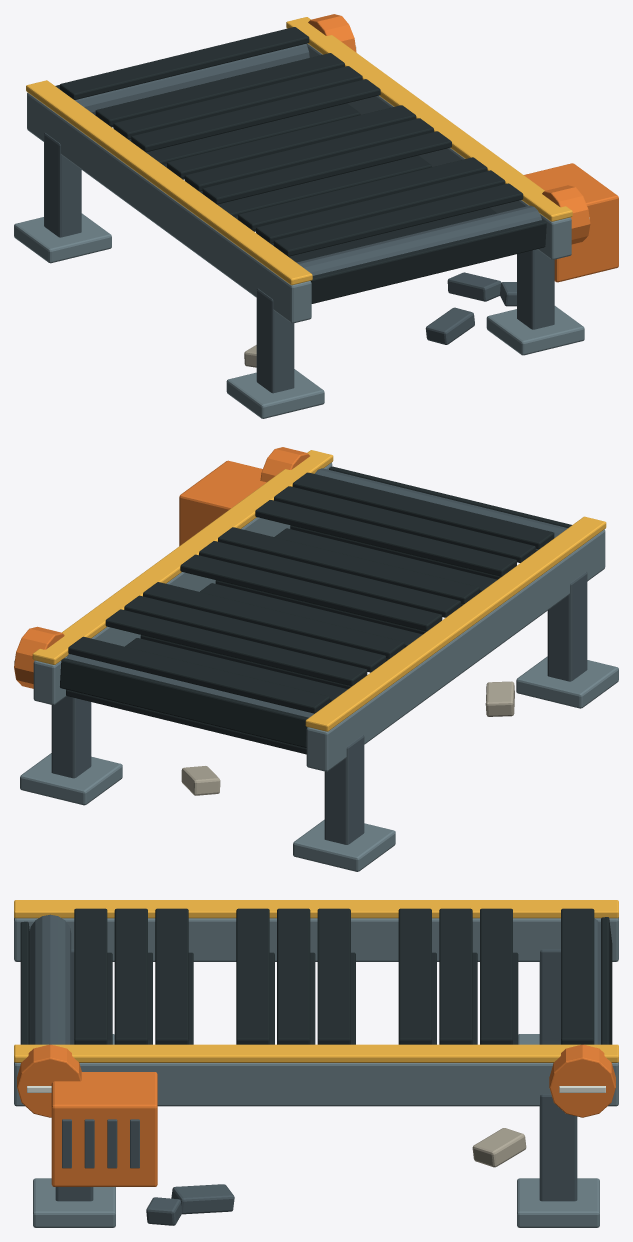
The model's file is conveyor_module_d2.glb.
3 views of the same model, one above another, from view 1: azimuth 30°, elevation 25°; view 2: azimuth 150°, elevation 25°; view 3: azimuth 270°, elevation 25° (orthographic). The views are drawn at different scales.
Parts seen in each view (by area): view 1: Conveyor side rail.052, Caution rail.040, BELT_TREAD.573, Caution rail.041, Motor enclosure.020, BELT_TREAD.552, BELT_TREAD.558, BELT_TREAD.555, BELT_TREAD.561, BELT_TREAD.553, BELT_TREAD.554, BELT_TREAD.556 (+19 smaller); view 2: Conveyor side rail.052, Caution rail.040, BELT_TREAD.562, Caution rail.041, BELT_TREAD.560, BELT_TREAD.557, BELT_TREAD.561, BELT_TREAD.554, BELT_TREAD.552, BELT_TREAD.555, BELT_TREAD.558, BELT_TREAD.559 (+24 smaller); view 3: Conveyor side rail.053, Motor enclosure.020, Caution rail.041, Conveyor side rail.052, Caution rail.040, Drive drum.040, BELT_TREAD.553, BELT_TREAD.554, BELT_TREAD.556, BELT_TREAD.558, BELT_TREAD.559, BELT_TREAD.561 (+30 smaller).
Boxes of the visible parts, <box> form: Conveyor side rail.052: <box>27,92,311,323</box>; Caution rail.040: <box>26,80,312,285</box>; BELT_TREAD.573: <box>310,220,546,303</box>; Caution rail.041: <box>286,17,572,221</box>; Motor enclosure.020: <box>524,163,618,282</box>; BELT_TREAD.552: <box>273,183,523,256</box>; BELT_TREAD.558: <box>131,79,380,152</box>; BELT_TREAD.555: <box>202,131,451,204</box>; BELT_TREAD.561: <box>60,27,309,99</box>; BELT_TREAD.553: <box>256,170,505,243</box>; BELT_TREAD.554: <box>238,157,487,230</box>; BELT_TREAD.556: <box>184,118,433,191</box>; Conveyor side rail.052: <box>306,529,605,771</box>; Caution rail.040: <box>305,516,606,731</box>; BELT_TREAD.562: <box>60,658,308,747</box>; Caution rail.041: <box>32,450,333,664</box>; BELT_TREAD.560: <box>105,609,367,686</box>; BELT_TREAD.557: <box>180,554,442,631</box>; BELT_TREAD.561: <box>68,636,329,713</box>; BELT_TREAD.554: <box>255,500,516,576</box>; BELT_TREAD.552: <box>292,472,554,549</box>; BELT_TREAD.555: <box>218,527,479,603</box>; BELT_TREAD.558: <box>143,582,404,658</box>; BELT_TREAD.559: <box>124,595,385,672</box>; Conveyor side rail.053: <box>14,1062,618,1106</box>; Motor enclosure.020: <box>51,1072,157,1186</box>; Caution rail.041: <box>14,1044,618,1062</box>; Conveyor side rail.052: <box>14,917,618,961</box>; Caution rail.040: <box>14,900,618,918</box>; Drive drum.040: <box>29,914,71,1044</box>; BELT_TREAD.553: <box>114,908,147,1044</box>; BELT_TREAD.554: <box>155,908,188,1044</box>; BELT_TREAD.556: <box>277,908,310,1044</box>; BELT_TREAD.558: <box>398,908,431,1044</box>; BELT_TREAD.559: <box>439,908,472,1044</box>; BELT_TREAD.561: <box>561,908,594,1044</box>.
Size of the model in its own units: 3.21 by 1.25 by 4.
